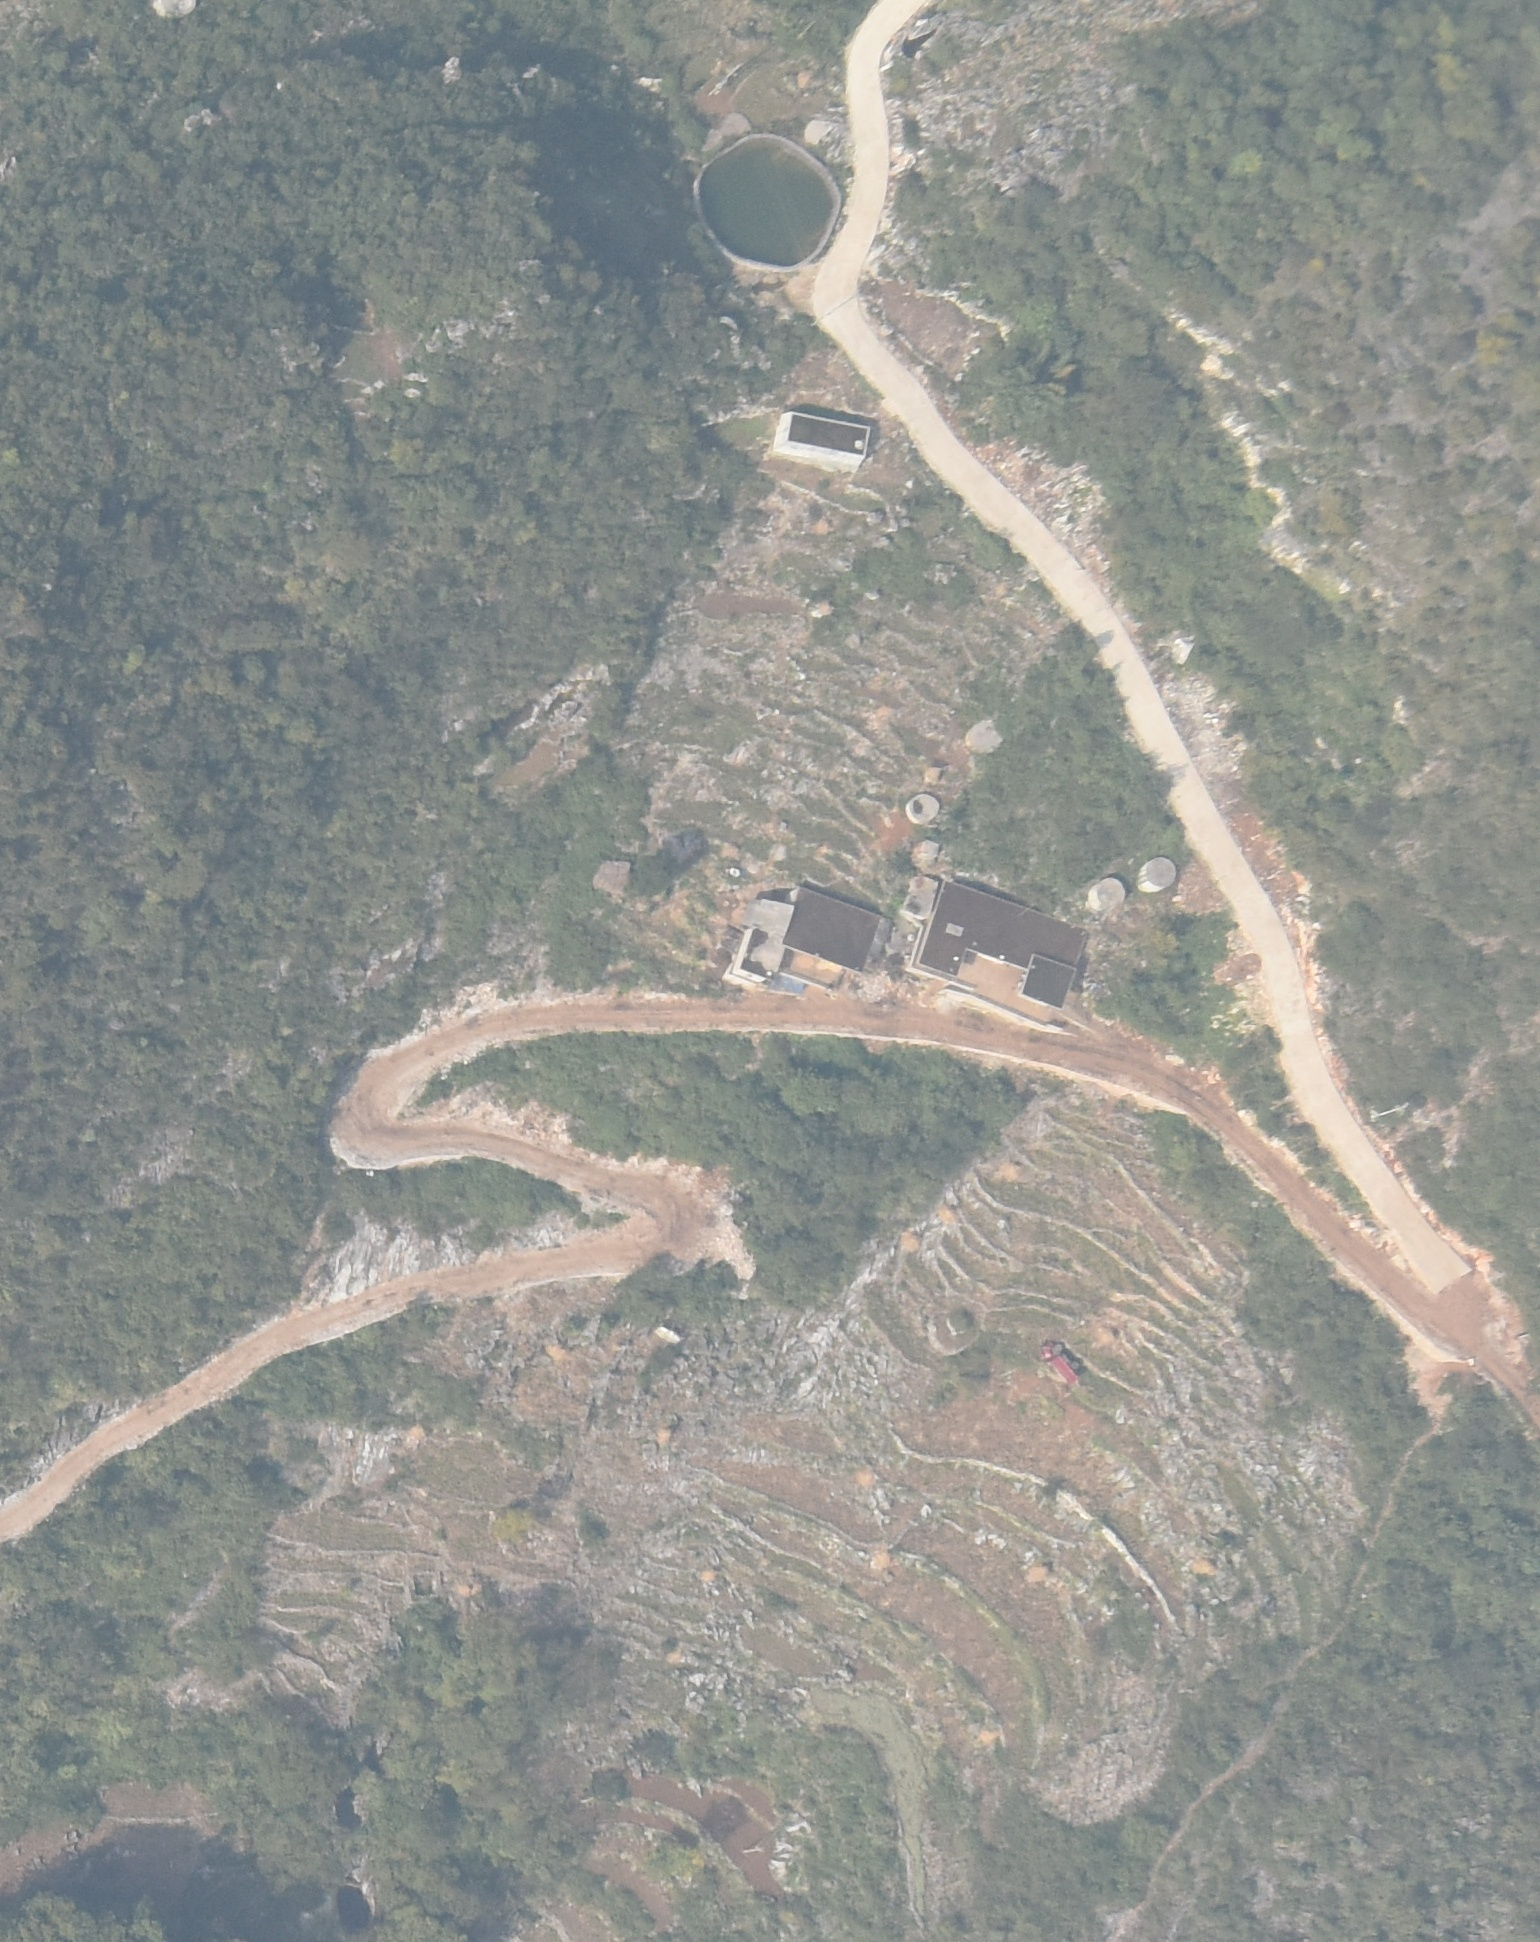building: (913, 869, 1091, 1017), (720, 880, 887, 996), (764, 392, 873, 470), (902, 875, 943, 917)
pool: (686, 129, 857, 270)
well: (1084, 876, 1127, 910), (1140, 858, 1181, 891), (906, 791, 941, 826)
